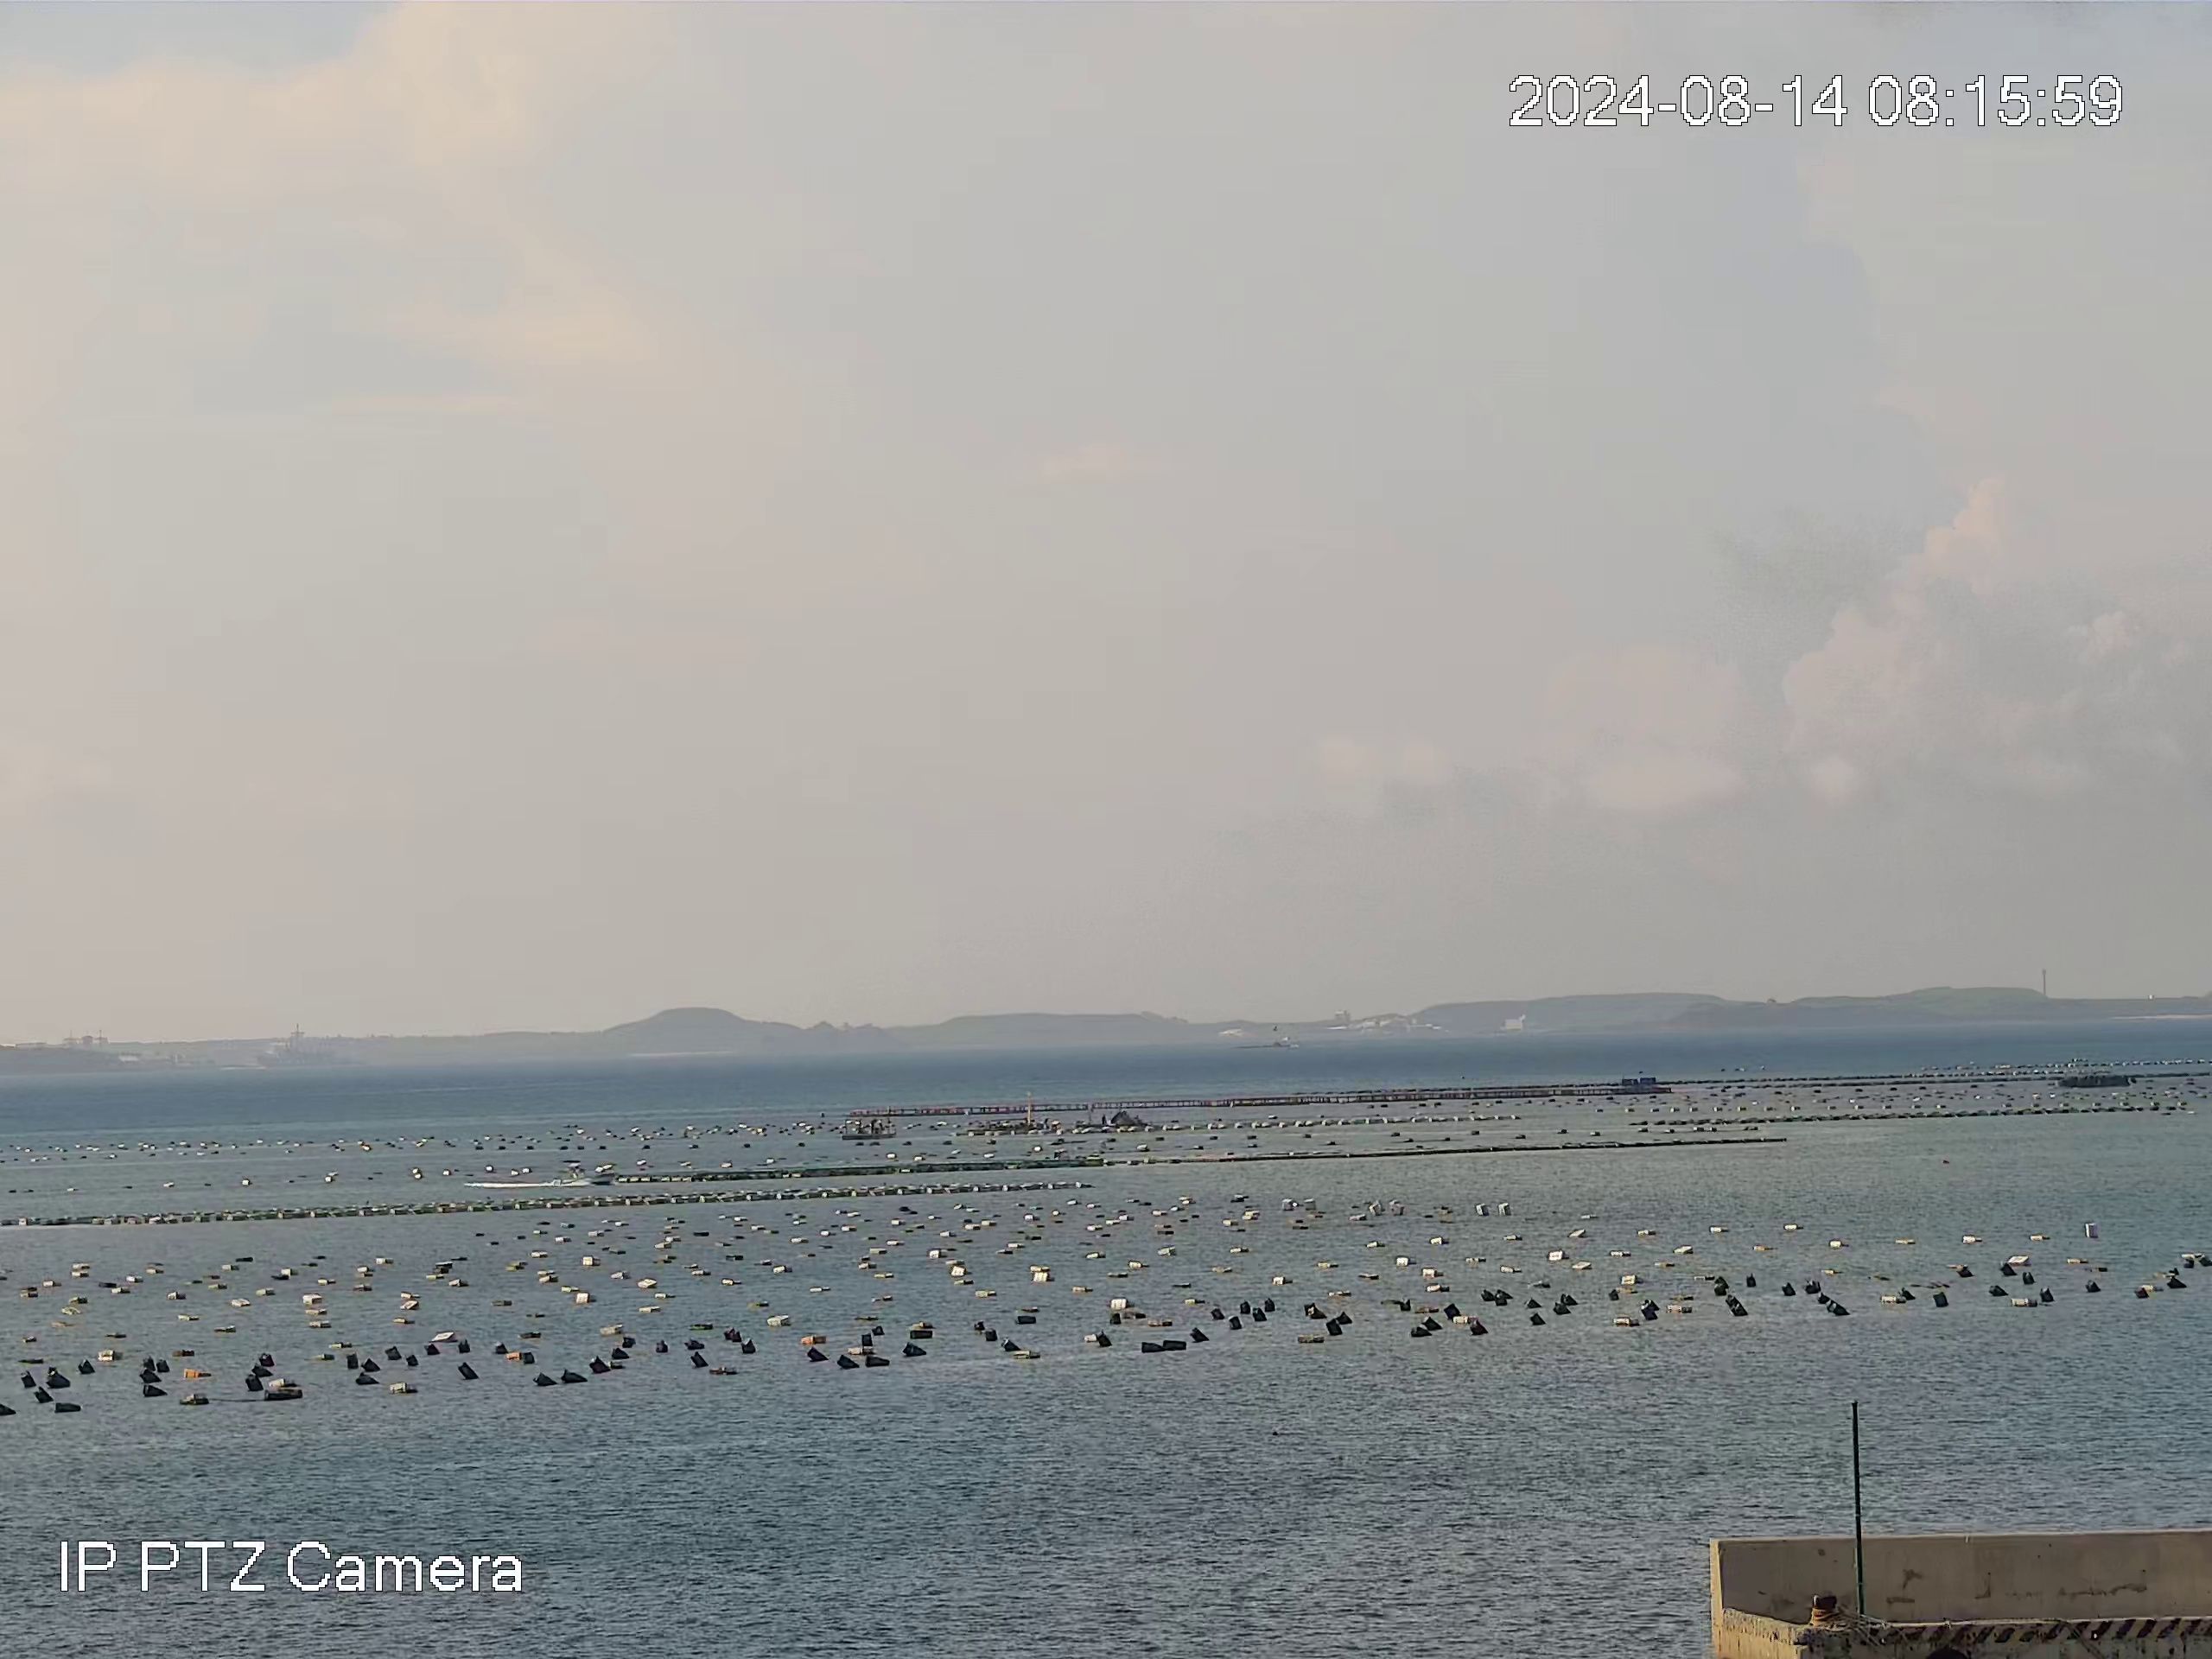boat: (2057, 1068, 2139, 1093), (840, 1107, 902, 1138)
